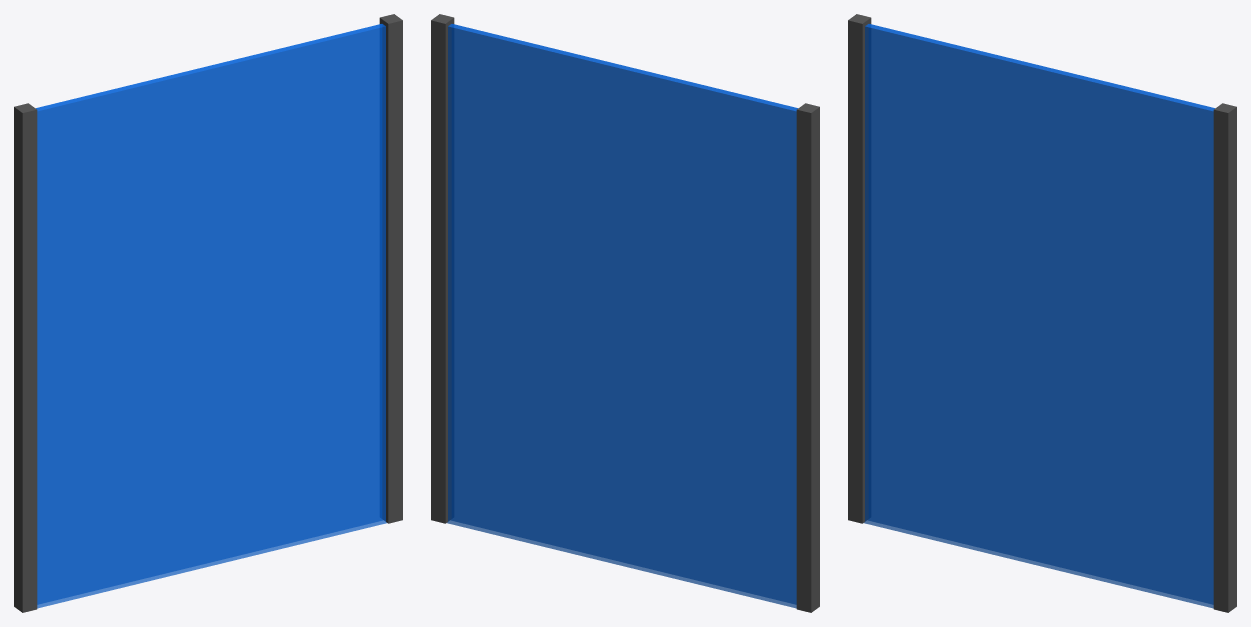
Rendered from blue gate.fbx.
3 renders of one model, left to right at view 1: azimuth 30°, elevation 25°; view 2: azimuth 150°, elevation 25°; view 3: azimuth 330°, elevation 25°, orthographic.
Visible parts, largest first — view 1: Cube.001; view 2: Cube.001; view 3: Cube.001.
Boxes of the visible parts, x1,y1,x2,y2 form: Cube.001: (14, 14, 402, 612); Cube.001: (431, 14, 819, 612); Cube.001: (848, 14, 1236, 612).
Bounding box in the file's own units: 3.61 × 0.1434 × 4.55.
